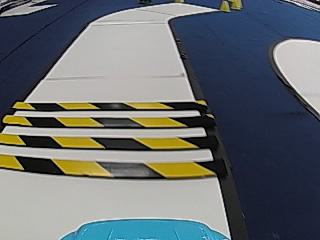bump: (0, 92, 219, 182)
